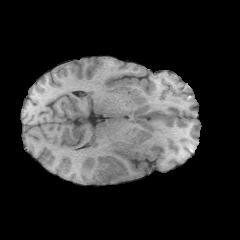glioma: (91, 144, 154, 183)
